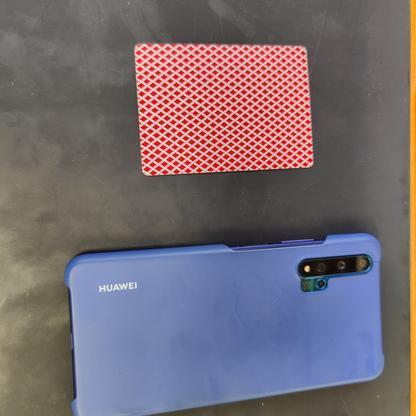card: (125, 35, 322, 177)
